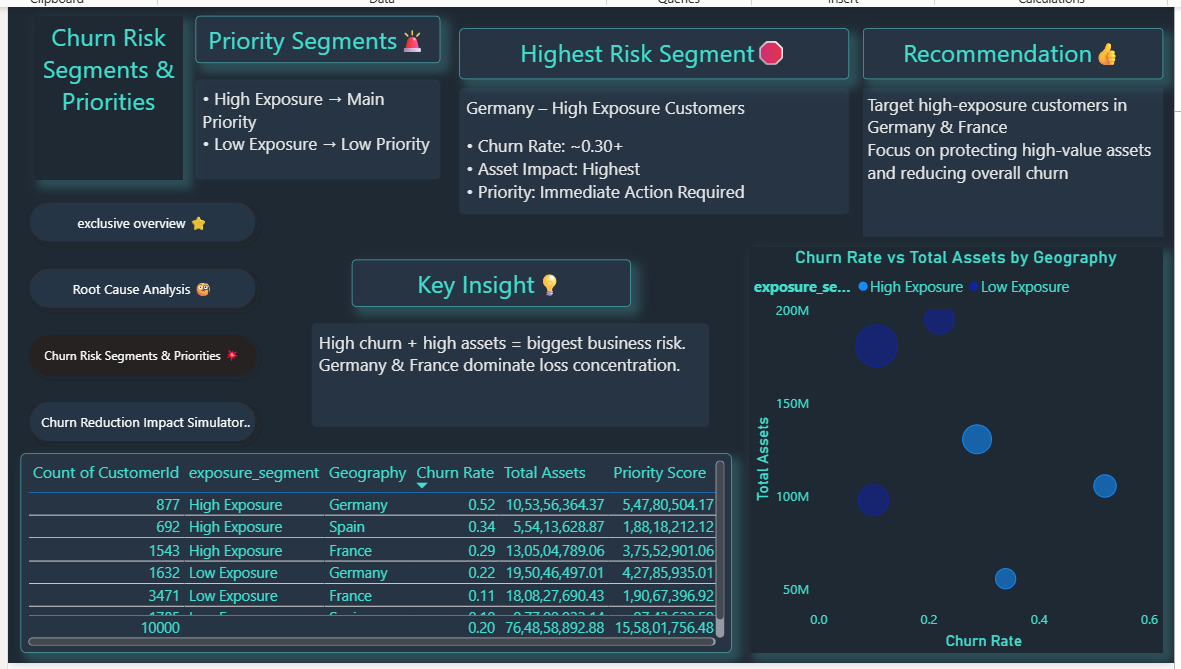

The page's visual inventory and layout, read from the dashboard file:
{"tool":"powerbi","page":{"name":"Churn Risk Segments & Priorities 💥","canvas":[1280,720],"ordinal":2},"visuals":[{"type":"tableEx","fields":{"Values":["CountNonNull(churn.CustomerId)","churn_behavior_segment.exposure_segment","churn.Geography","churn.Churn Rate","churn.Total Assets","churn.Priority Score"]},"box":[13.7,489.9,780.8,219.6],"z":0},{"type":"scatterChart","title":"Churn Rate vs Total Assets by Geography","fields":{"X":["churn.Churn Rate"],"Y":["churn.Total Assets"],"Size":["CountNonNull(churn.CustomerId)"],"Series":["churn_behavior_segment.exposure_segment"],"Category":["churn.Geography"]},"box":[814.7,240.2,453.5,468.7],"z":1000},{"type":"textbox","box":[205.8,79.6,269,109.8],"z":2000},{"type":"textbox","box":[495.4,89.2,428.1,138.6],"z":3000},{"type":"textbox","box":[28.8,9.6,163.3,179.8],"z":4000},{"type":"textbox","box":[205.8,9.6,269,52.1],"z":5000},{"type":"textbox","box":[495.4,23.3,428.1,56.3],"z":6000},{"type":"textbox","box":[333.4,347.2,436.4,113.9],"z":7000},{"type":"textbox","box":[377.4,277.2,306,52.1],"z":8000},{"type":"textbox","box":[939,89,329.2,139.4],"z":9000},{"type":"textbox","box":[938.6,23.3,329.3,56.3],"z":10000},{"type":"pageNavigator","box":[13.7,204.5,269,285.4],"z":11000}]}

Visuals, with their boxes on the page's 1280x720 design canvas (x1, y1, x2, y2). These are canvas units, not pixel positions in the 1181x669 screenshot, which may show the page scaled, cropped or inside an application window:
tableEx - CountNonNull(churn.CustomerId) x churn_behavior_segment.exposure_segment: (x1=14, y1=490, x2=794, y2=710)
"Churn Rate vs Total Assets by Geography" scatterChart: (x1=815, y1=240, x2=1268, y2=709)
textbox: (x1=206, y1=80, x2=475, y2=189)
textbox: (x1=495, y1=89, x2=924, y2=228)
textbox: (x1=29, y1=10, x2=192, y2=189)
textbox: (x1=206, y1=10, x2=475, y2=62)
textbox: (x1=495, y1=23, x2=924, y2=80)
textbox: (x1=333, y1=347, x2=770, y2=461)
textbox: (x1=377, y1=277, x2=683, y2=329)
textbox: (x1=939, y1=89, x2=1268, y2=228)
textbox: (x1=939, y1=23, x2=1268, y2=80)
pageNavigator: (x1=14, y1=204, x2=283, y2=490)
